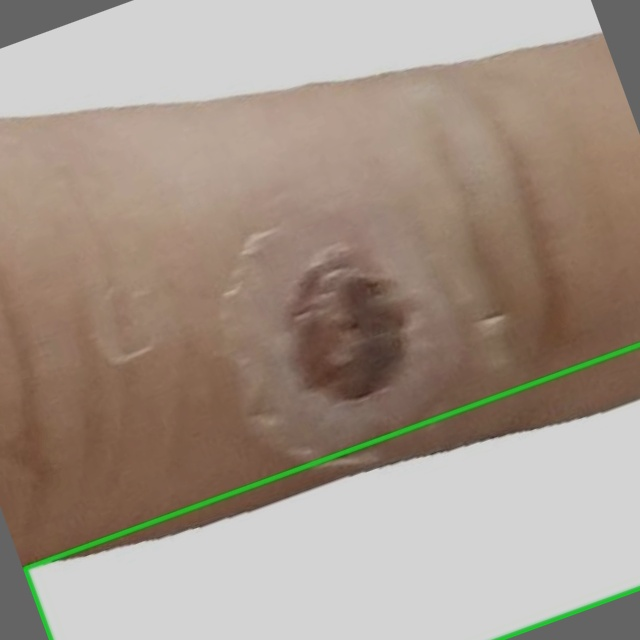Scabies: (24, 346, 639, 639)
